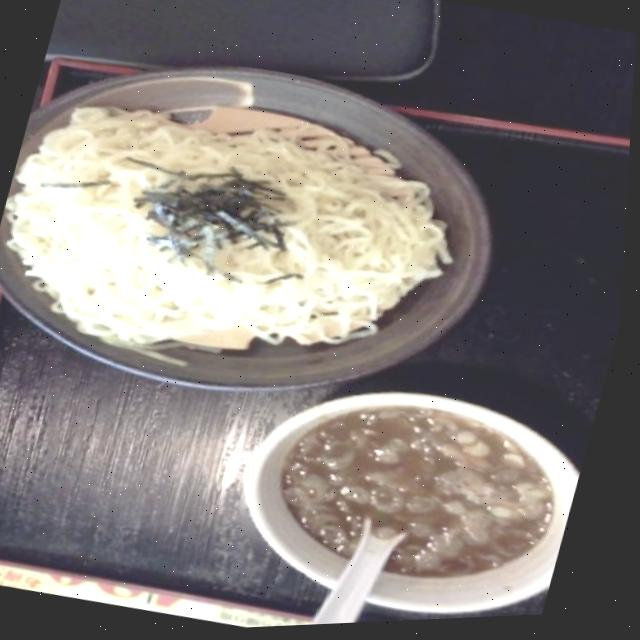面条主食: (0, 0, 531, 454), (211, 360, 601, 632)
